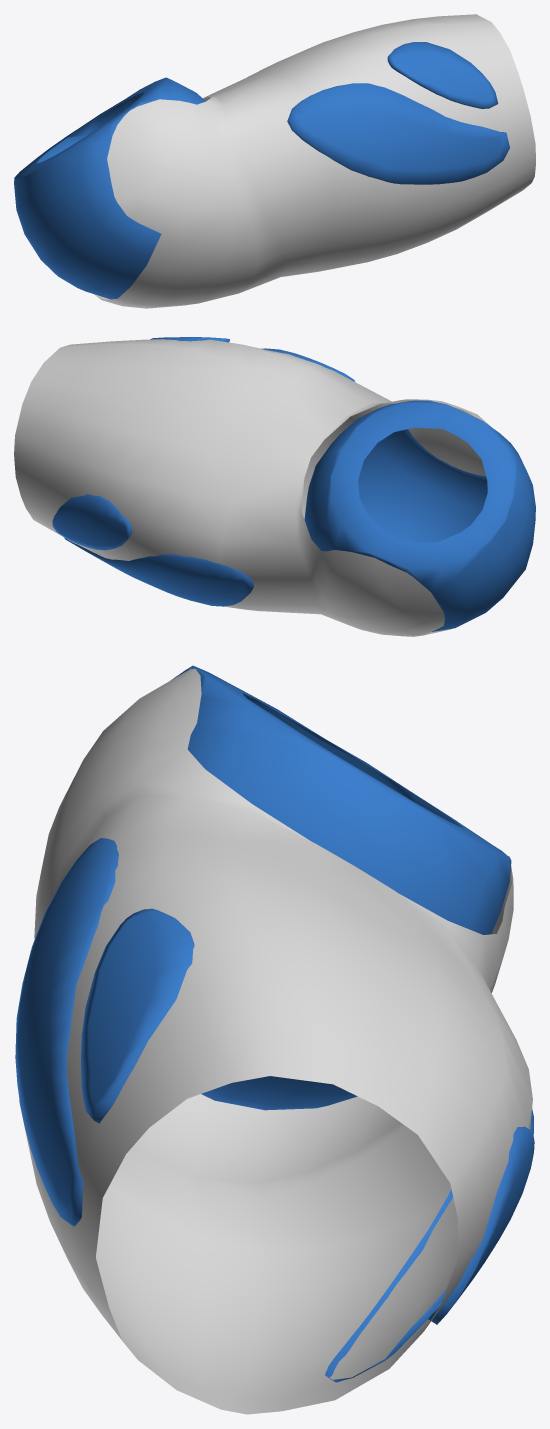
File: RShoulderYaw.dae
3 views of the same model, one above another, from view 1: azimuth 30°, elevation 25°; view 2: azimuth 150°, elevation 25°; view 3: azimuth 270°, elevation 25° (orthographic). The views are drawn at different scales.
Visible parts, largest first — view 1: RShoulderYaw; view 2: RShoulderYaw; view 3: RShoulderYaw.
Boxes of the visible parts, x1=… form: RShoulderYaw: x1=14, y1=14, x2=535, y2=308; RShoulderYaw: x1=14, y1=337, x2=535, y2=636; RShoulderYaw: x1=15, y1=665, x2=534, y2=1414.
Size of the model in its own units: 0.2459 by 0.1114 by 0.1185.
